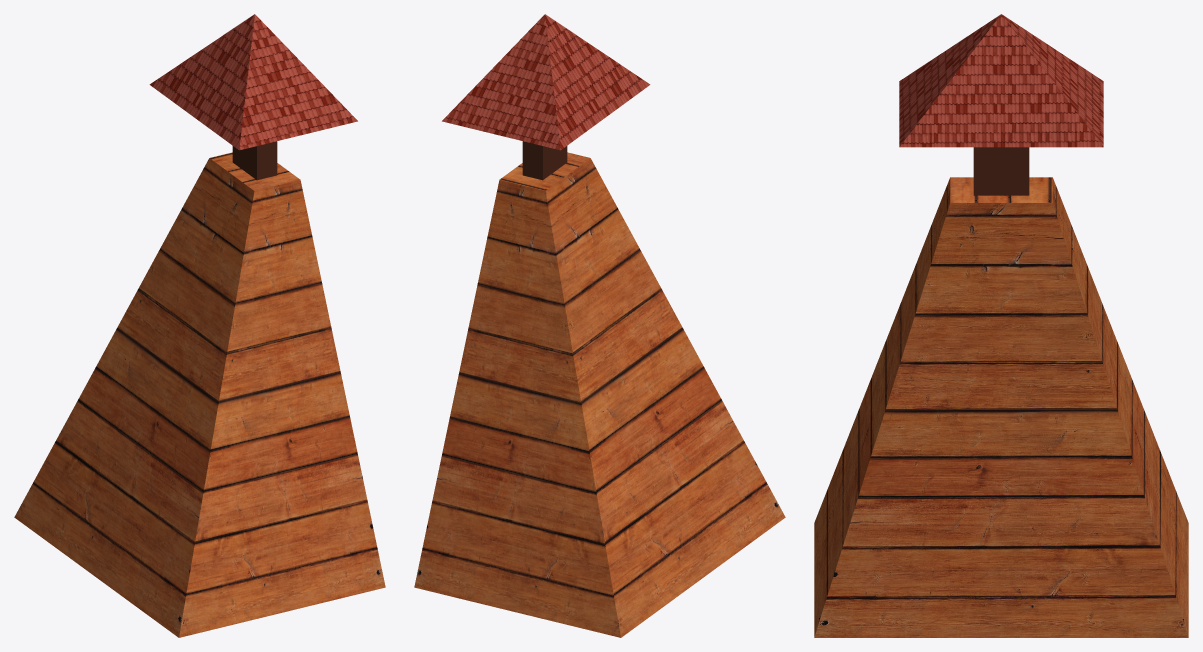
File: molino2022.fbx
The picture shows the model from 3 angles, left to right: view 1: azimuth 30°, elevation 25°; view 2: azimuth 150°, elevation 25°; view 3: azimuth 270°, elevation 25°; orthographic projection. The views are drawn at different scales.
Visible parts, largest first — view 1: Cubo; view 2: Cubo; view 3: Cubo.
Part boxes in pixels (x1,y1,x2,y2): Cubo: (14,14,385,637); Cubo: (414,14,785,637); Cubo: (814,14,1188,637).
Size of the model in its own units: 1348 by 3118 by 1773.
